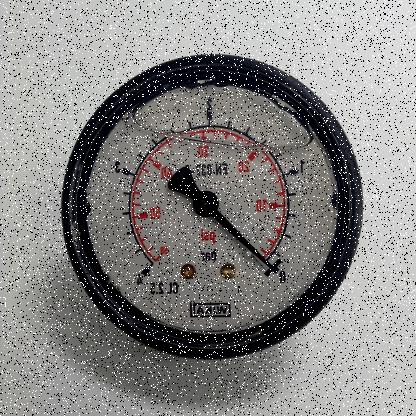needle: (210, 209, 276, 271)
